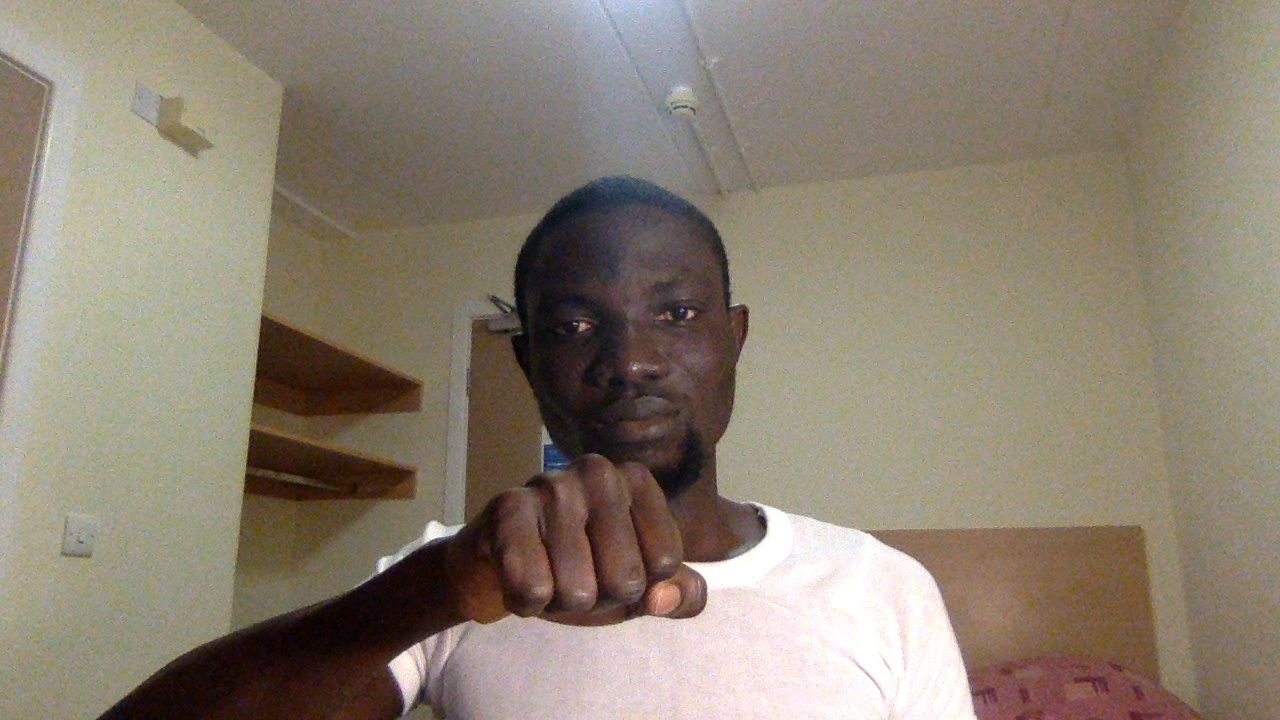Yes: (448, 447, 715, 635)
